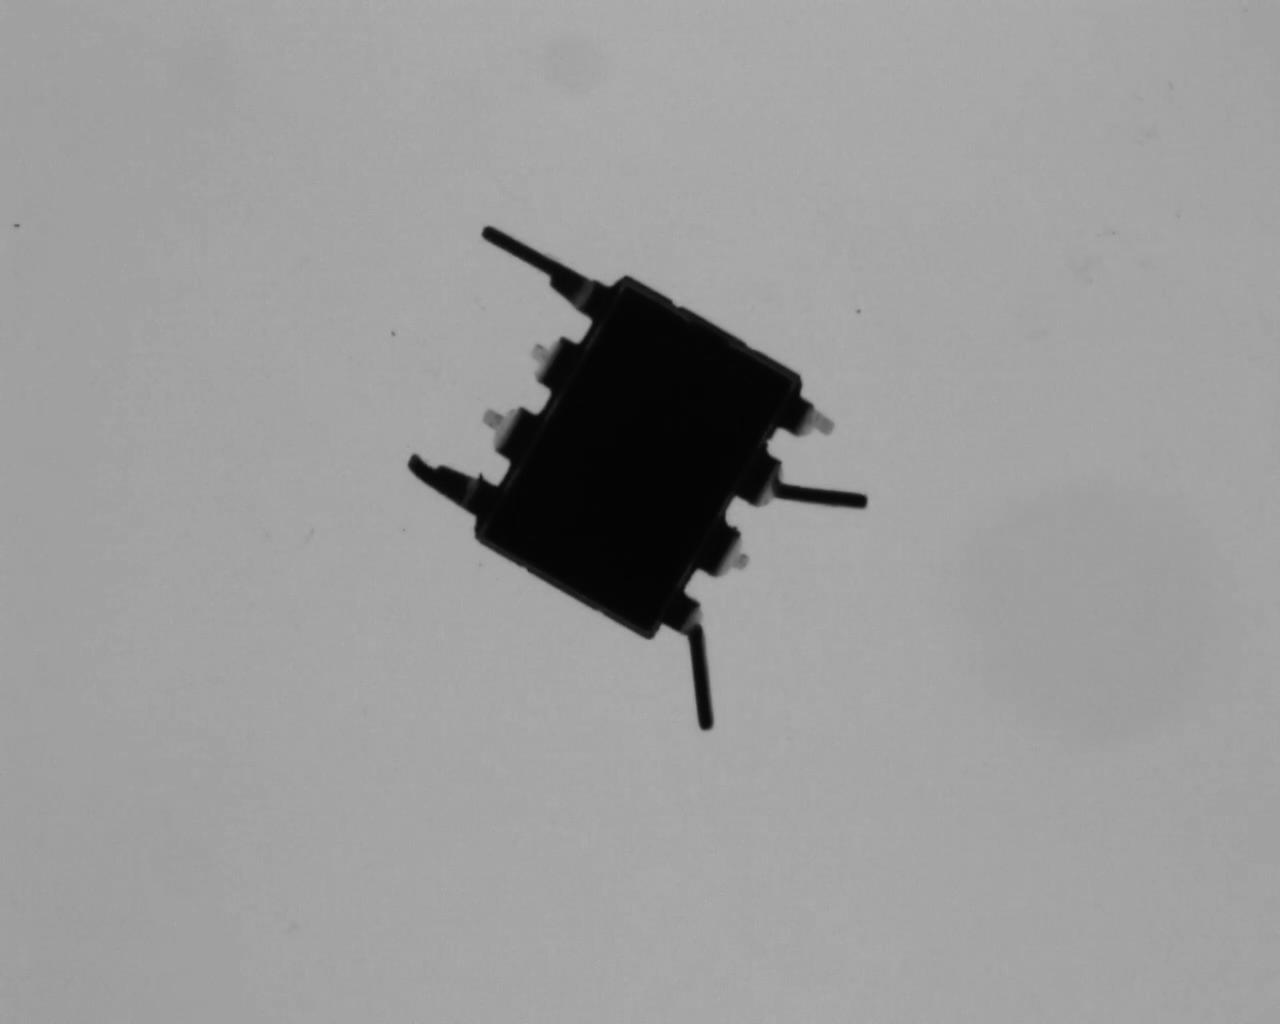Leg: (473, 220, 619, 322), (662, 587, 722, 735), (737, 450, 871, 511), (400, 448, 502, 518), (476, 394, 544, 462), (688, 517, 749, 580), (777, 394, 836, 444), (528, 334, 579, 386)
